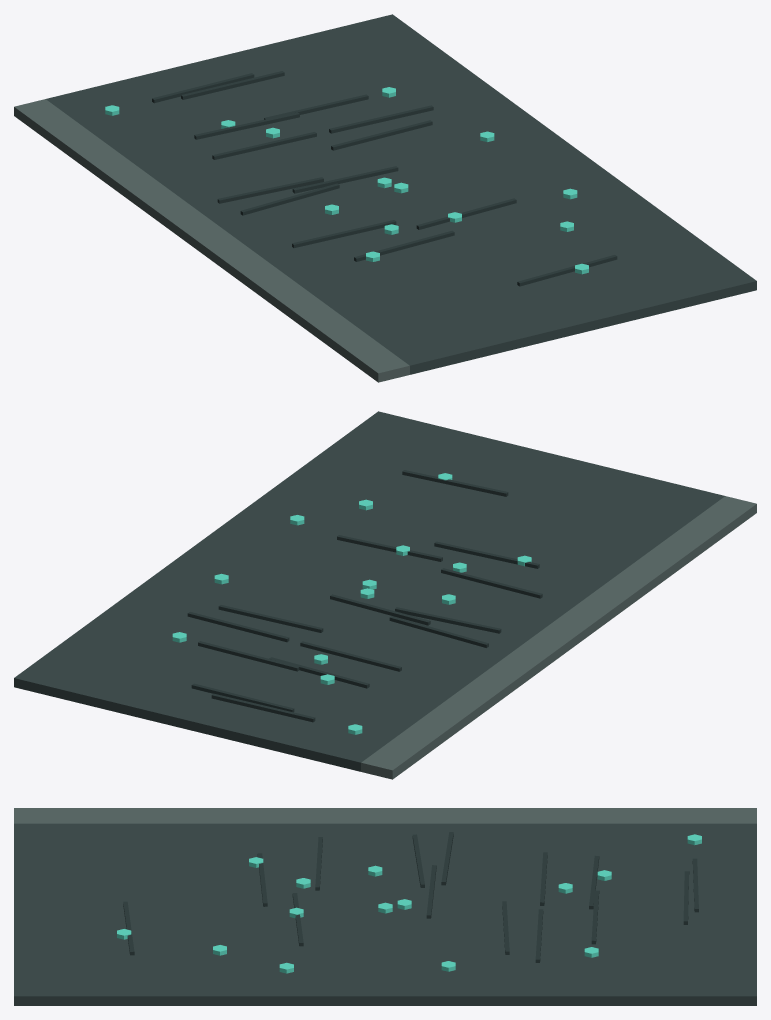
Rendered from env_r14_verge.glb.
The picture shows the model from 3 angles, top to bottom: view 1: azimuth 30°, elevation 25°; view 2: azimuth 150°, elevation 25°; view 3: azimuth 270°, elevation 25°; orthographic projection.
Visible parts, largest first — view 1: env_r14_verge; view 2: env_r14_verge; view 3: env_r14_verge.
Boxes of the visible parts, x1,y1,x2,y2 form: env_r14_verge: (14, 14, 756, 382); env_r14_verge: (14, 411, 756, 779); env_r14_verge: (14, 808, 756, 1005).
Bounding box in the file's own units: 6 × 0.2 × 10.
1 material, 1 textured.
